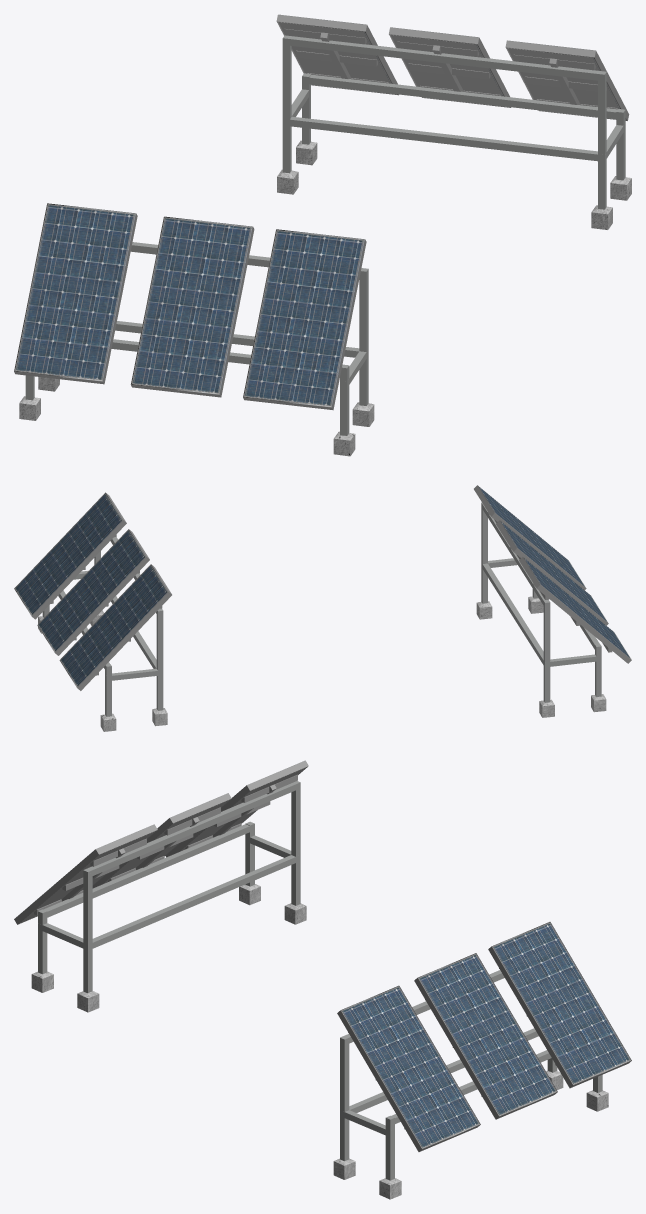
The model's file is Solar_Panels.fbx.
3 renders of one model, top to bottom at view 1: azimuth 30°, elevation 25°; view 2: azimuth 150°, elevation 25°; view 3: azimuth 270°, elevation 25°, orthographic. The views are drawn at different scales.
Parts seen in each view (by area): view 1: solar_panel_02, solar_panel_01, solar_panel_03, Metal_Stand_02, solar_panel_05, solar_panel_06, solar_panel_04, Metal_Stand_01, Concrete_Blocks_02, Concrete_Blocks_01; view 2: solar_panel_04, solar_panel_06, solar_panel_05, Metal_Stand_01, Metal_Stand_02, solar_panel_01, solar_panel_02, solar_panel_03, Concrete_Blocks_01, Concrete_Blocks_02; view 3: solar_panel_05, solar_panel_06, solar_panel_04, Metal_Stand_01, Metal_Stand_02, solar_panel_03, solar_panel_01, solar_panel_02, Concrete_Blocks_01, Concrete_Blocks_02.
Part boxes in pixels (x1=…): solar_panel_02: x1=130, y1=216, x2=254, y2=397; solar_panel_01: x1=14, y1=203, x2=137, y2=384; solar_panel_03: x1=243, y1=229, x2=366, y2=410; Metal_Stand_02: x1=282, y1=35, x2=625, y2=209; solar_panel_05: x1=389, y1=27, x2=510, y2=107; solar_panel_06: x1=276, y1=14, x2=398, y2=95; solar_panel_04: x1=505, y1=40, x2=629, y2=120; Metal_Stand_01: x1=25, y1=242, x2=368, y2=435; Concrete_Blocks_02: x1=277, y1=140, x2=631, y2=229; Concrete_Blocks_01: x1=19, y1=377, x2=374, y2=456; solar_panel_04: x1=14, y1=492, x2=126, y2=619; solar_panel_06: x1=59, y1=564, x2=171, y2=690; solar_panel_05: x1=37, y1=529, x2=149, y2=655; Metal_Stand_01: x1=481, y1=502, x2=601, y2=702; Metal_Stand_02: x1=42, y1=537, x2=163, y2=716; solar_panel_01: x1=519, y1=557, x2=631, y2=663; solar_panel_02: x1=496, y1=520, x2=608, y2=625; solar_panel_03: x1=474, y1=485, x2=586, y2=590; Concrete_Blocks_01: x1=476, y1=596, x2=606, y2=717; Concrete_Blocks_02: x1=38, y1=610, x2=167, y2=731; solar_panel_05: x1=414, y1=953, x2=557, y2=1119; solar_panel_06: x1=488, y1=922, x2=631, y2=1088; solar_panel_04: x1=337, y1=985, x2=480, y2=1151; Metal_Stand_01: x1=38, y1=781, x2=300, y2=993; Metal_Stand_02: x1=340, y1=970, x2=602, y2=1180; solar_panel_03: x1=14, y1=824, x2=157, y2=924; solar_panel_01: x1=165, y1=760, x2=308, y2=857; solar_panel_02: x1=92, y1=793, x2=231, y2=888; Concrete_Blocks_01: x1=31, y1=884, x2=306, y2=1012; Concrete_Blocks_02: x1=333, y1=1070, x2=608, y2=1199.
Bounding box in the file's own units: 1871 × 446 × 1532.
2 materials, 2 textured.
